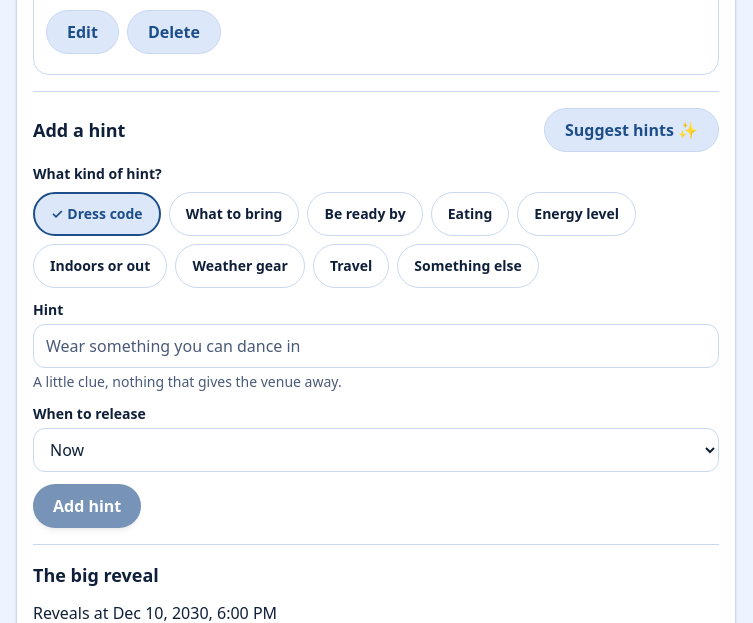
SurpriseSection › does not submit a picked hint time that has already passed
The image size is (753, 623).
(page scrolled)
Expected: the heading "Add a hint" is shown, x1=33 y1=116 x2=125 y2=144
Type "Be ready early" into the field labelled "Hint" at (376, 346), box x1=33 y1=324 x2=719 y2=368
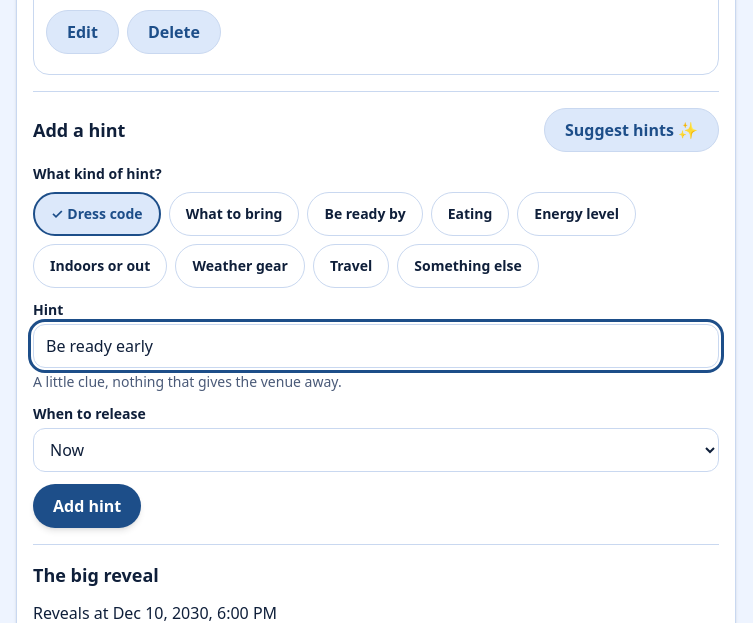
Select "Pick a time" in the dropdown labelled "When to release" at (376, 450), box x1=33 y1=428 x2=719 y2=472
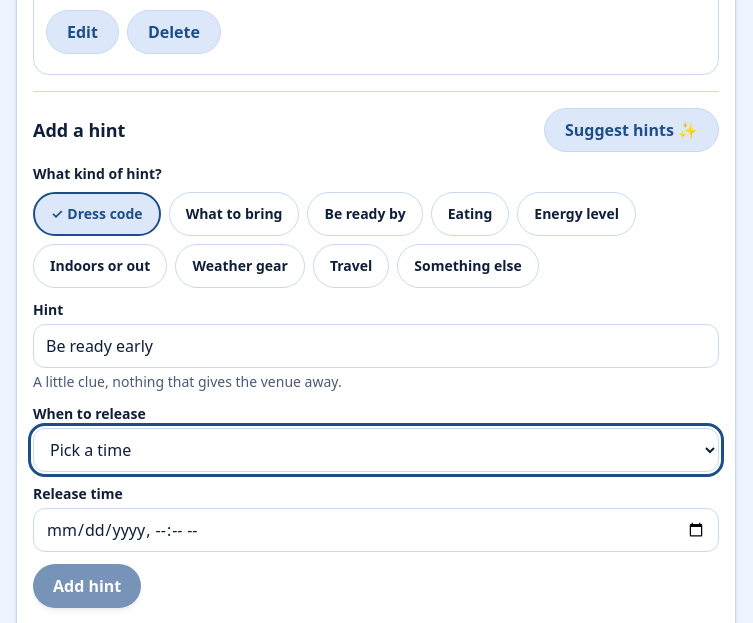
Type "2020-01-01T10:00" into the field labelled "Release time" at (376, 530), box x1=33 y1=508 x2=719 y2=552
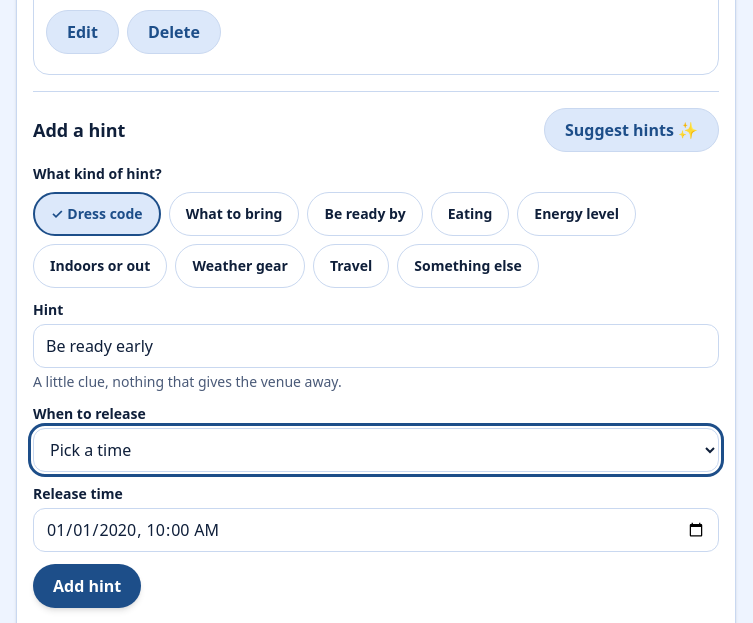
Click the button "Add hint" at (87, 586), box x1=33 y1=564 x2=141 y2=608
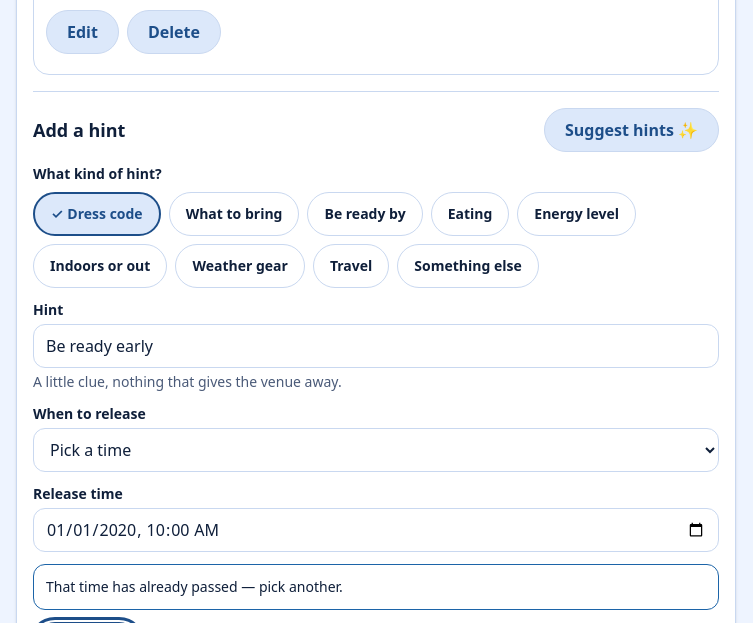
Expected: the text "That time has already passed — pick another." is shown, x1=33 y1=564 x2=719 y2=610
